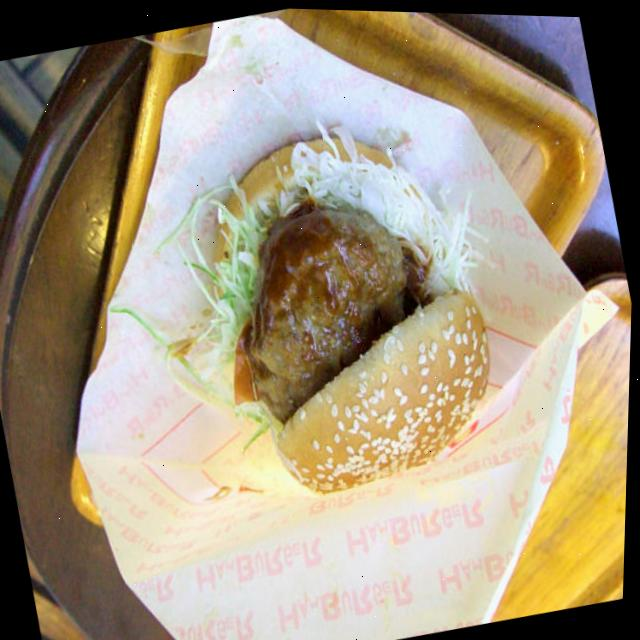汉堡快餐: (165, 96, 537, 539)
